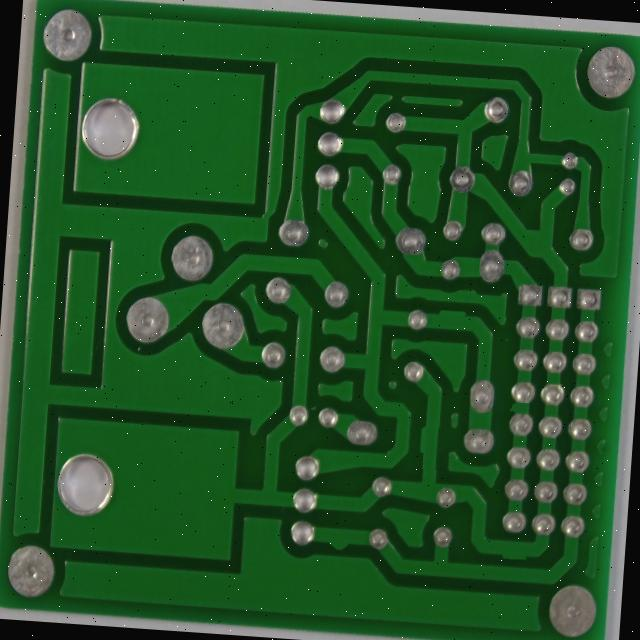spur: (421, 426, 441, 469), (439, 309, 476, 330), (509, 401, 536, 429), (505, 554, 538, 572), (329, 543, 357, 563)
